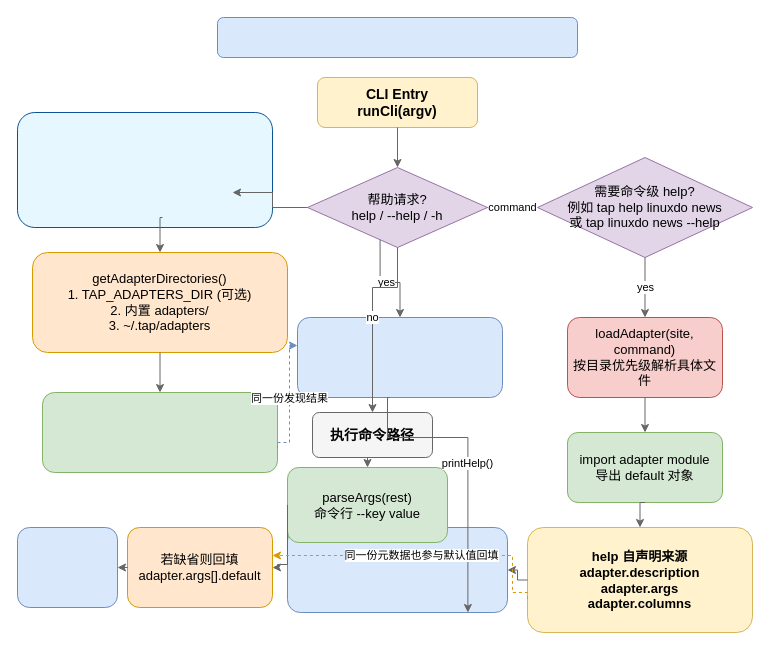
Image size: 770x650. Some labels were removed from this diagram. Each missing label, with the centre of its shape:
"commandHelp() 拼出 Usage / Options / Output Columns" belongs at point (397, 569).
"executePipeline() printOutput()" belongs at point (67, 567).
"globalHelp() / siteHelp() 直接使用 listAdapters() 的发现结果" belongs at point (399, 357).
"tap 配置加载与 help 自声明解析" belongs at point (397, 37).
"扫描各目录下 <site>/<command>.js 合并 sites / commands" belongs at point (160, 432).
"结论 适配器代码来源: 内置 + 外部目录 参数值来源: CLI 参数 + 适配器默认值 help 文本来源: 适配器自声明元数据" belongs at point (144, 170).
